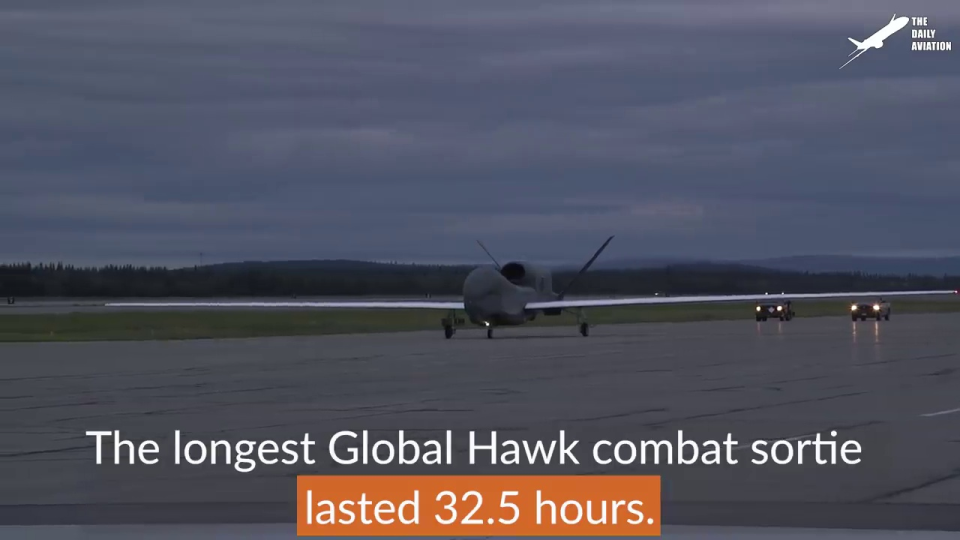military drone: (104, 236, 960, 338)
